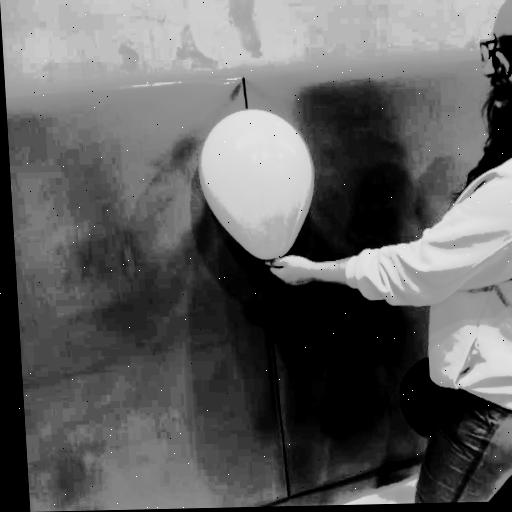balloon: (195, 107, 321, 264)
